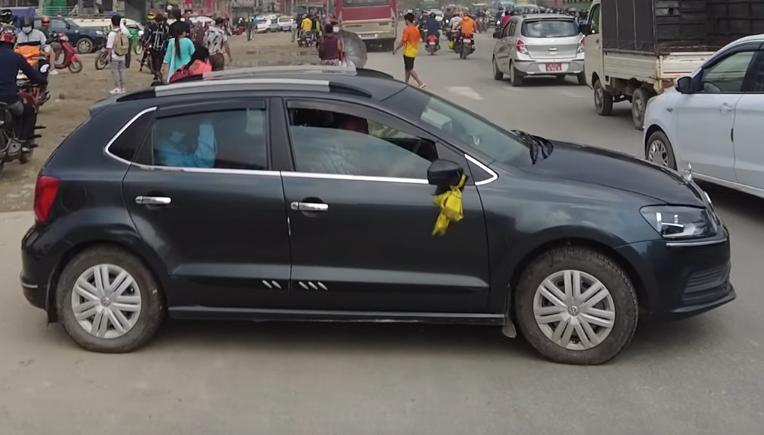bus: (332, 0, 399, 54)
car: (18, 62, 739, 364), (640, 29, 764, 213), (493, 11, 596, 89)
